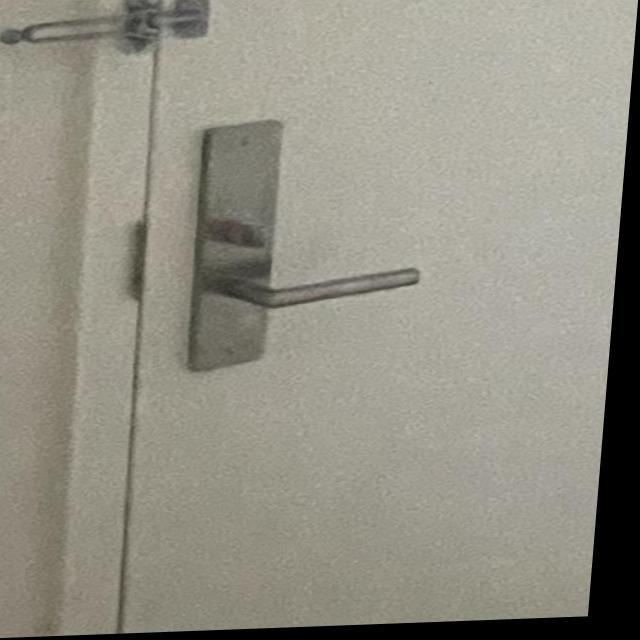door_handle: (181, 255, 448, 327)
